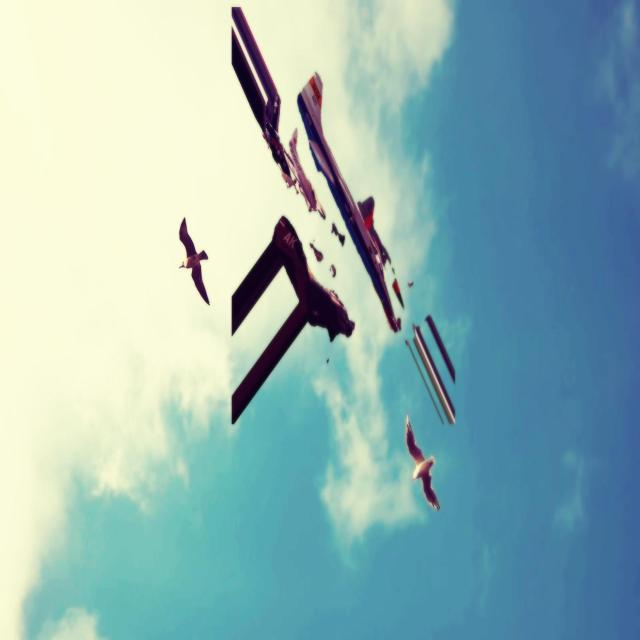airplane: (296, 70, 404, 333), (230, 214, 355, 424), (282, 129, 330, 221)
